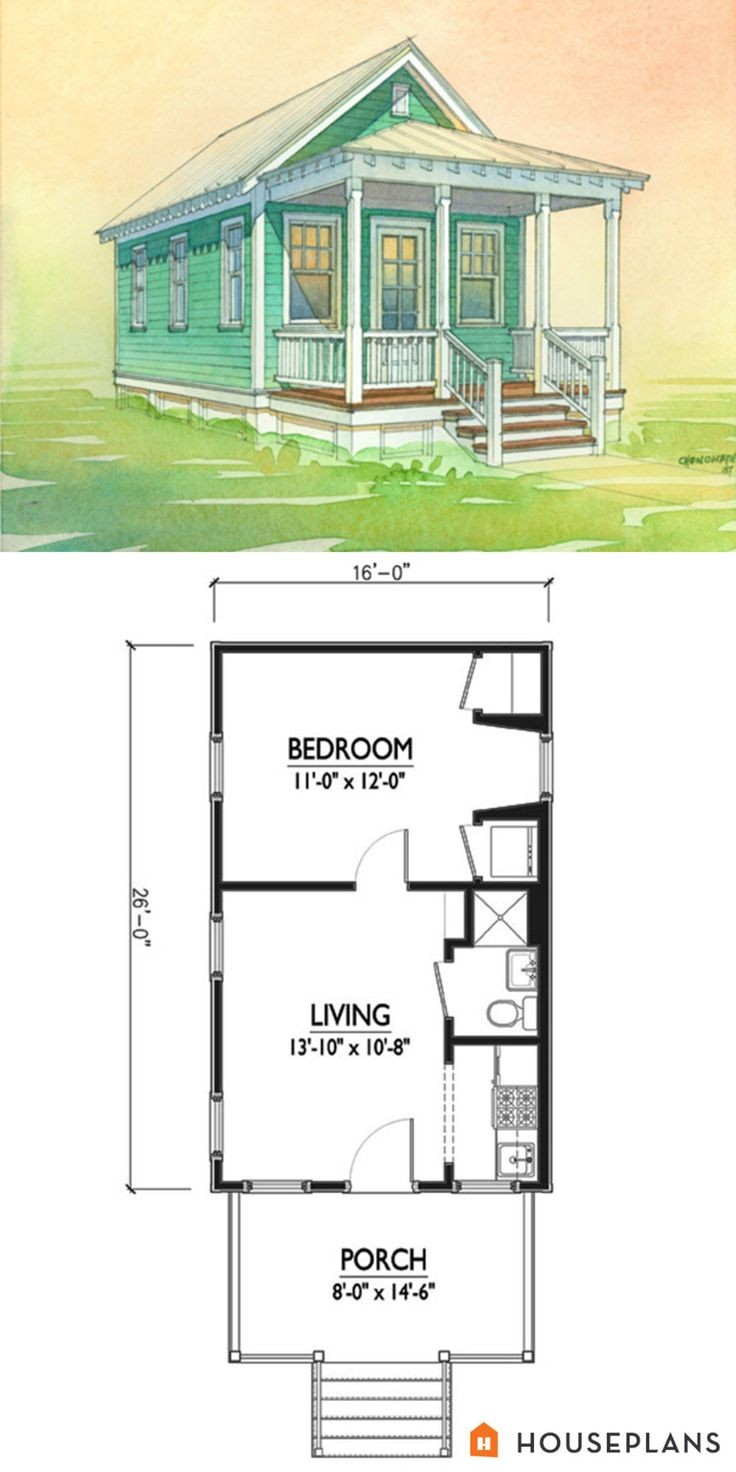door: (346, 1103, 417, 1203), (360, 810, 410, 899)
room: (214, 890, 542, 1185), (219, 653, 544, 883)
wall: (528, 808, 562, 1213), (221, 635, 555, 672), (214, 863, 357, 917), (405, 867, 544, 903), (196, 976, 239, 1092), (201, 633, 235, 735), (482, 699, 557, 740), (462, 794, 551, 822), (210, 794, 230, 917), (442, 1035, 546, 1058), (532, 658, 562, 733), (210, 1167, 251, 1206), (305, 1172, 346, 1199), (444, 1019, 460, 1076), (423, 1176, 462, 1194)
window: (203, 1090, 235, 1165), (542, 731, 571, 797), (205, 733, 232, 799), (464, 1176, 526, 1203), (207, 917, 230, 976)
